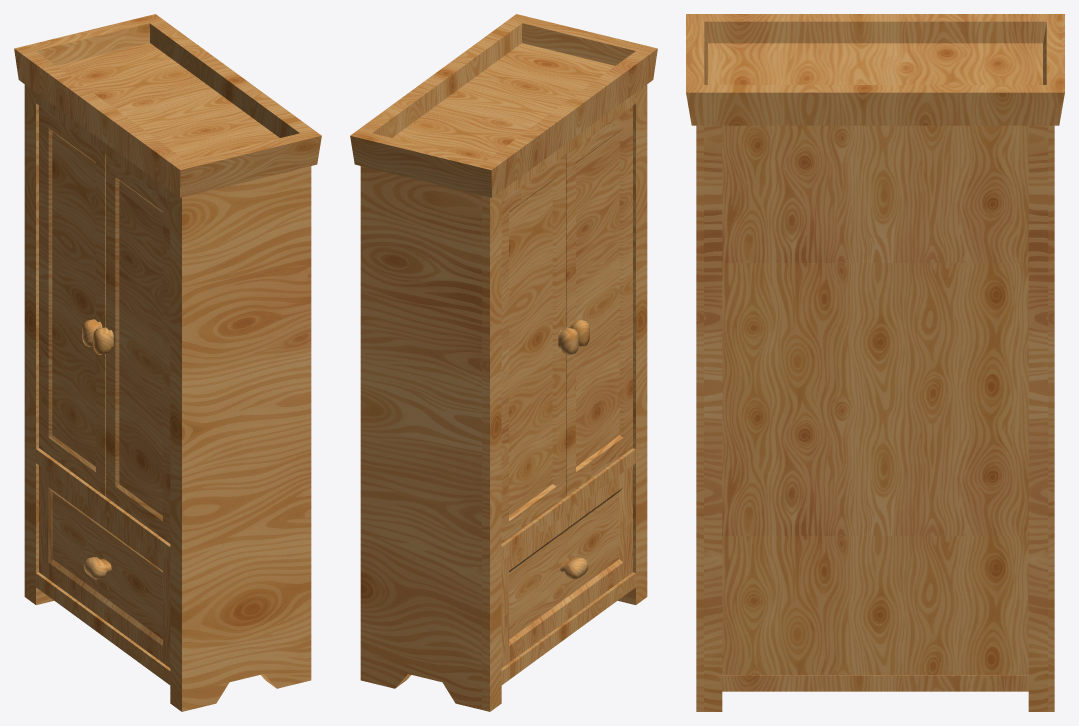
The model's file is Shelf_01.fbx.
3 renders of one model, left to right at view 1: azimuth 30°, elevation 25°; view 2: azimuth 150°, elevation 25°; view 3: azimuth 270°, elevation 25°, orthographic. The views are drawn at different scales.
Parts seen in each view (by area): view 1: Shelf_01; view 2: Shelf_01; view 3: Shelf_01.
Boxes of the visible parts, x1=… form: Shelf_01: x1=14, y1=14, x2=321, y2=711; Shelf_01: x1=350, y1=14, x2=657, y2=711; Shelf_01: x1=686, y1=14, x2=1064, y2=711.
Bounding box in the file's own units: 65.8 × 228 × 126.
